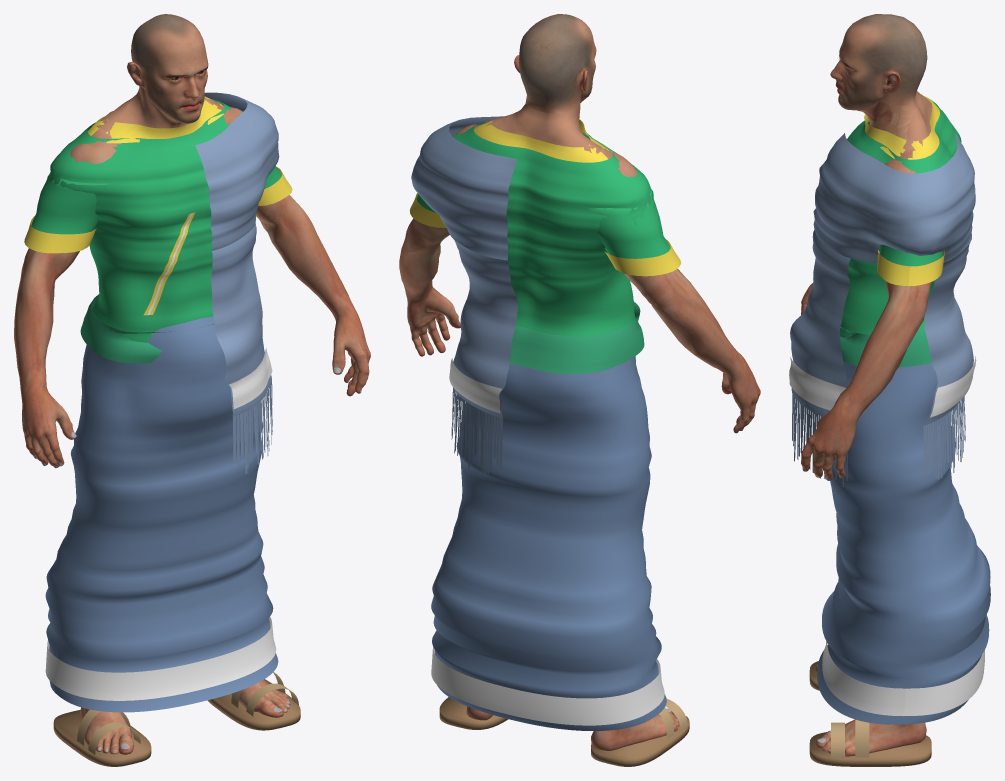
The model's file is male-raya.glb.
The picture shows the model from 3 angles, left to right: view 1: azimuth 30°, elevation 25°; view 2: azimuth 150°, elevation 25°; view 3: azimuth 270°, elevation 25°; orthographic projection.
Visible parts, largest first — view 1: HM_Skirt, HM_Tee, Object_2, HM_Shawl_Shoulder, HM_Embroidery_Hem, Object_7, HM_Shawl_Front, HM_Sleeve_R, Object_8, HM_Belt, HM_Sandal_Sole_R, HM_Fringe_Front (+5 smaller); view 2: HM_Skirt, HM_Tee, Object_2, HM_Shawl_Shoulder, HM_Shawl_Back, HM_Embroidery_Hem, Object_7, HM_Belt, HM_Sleeve_R, Object_11, HM_Fringe_Back, HM_Collar (+5 smaller); view 3: HM_Skirt, HM_Shawl_Shoulder, Object_2, Object_7, HM_Shawl_Front, HM_Tee, HM_Embroidery_Hem, HM_Shawl_Back, HM_Fringe_Back, HM_Sandal_Sole_L, Object_8, HM_Belt (+10 smaller).
Part boxes in pixels (bbox=[...]): HM_Skirt: bbox=[45, 316, 278, 712]; HM_Tee: bbox=[43, 99, 231, 342]; Object_2: bbox=[14, 100, 370, 467]; HM_Shawl_Shoulder: bbox=[195, 92, 279, 250]; HM_Embroidery_Hem: bbox=[45, 617, 276, 700]; Object_7: bbox=[127, 14, 208, 123]; HM_Shawl_Front: bbox=[211, 223, 271, 416]; HM_Sleeve_R: bbox=[31, 172, 108, 253]; Object_8: bbox=[80, 680, 290, 754]; HM_Belt: bbox=[80, 294, 214, 363]; HM_Sandal_Sole_R: bbox=[53, 710, 151, 766]; HM_Fringe_Front: bbox=[233, 381, 272, 473]; HM_Skirt: bbox=[431, 356, 666, 730]; HM_Tee: bbox=[452, 122, 653, 336]; Object_2: bbox=[399, 122, 760, 433]; HM_Shawl_Shoulder: bbox=[411, 116, 516, 260]; HM_Shawl_Back: bbox=[453, 238, 517, 418]; HM_Embroidery_Hem: bbox=[431, 646, 664, 725]; Object_7: bbox=[514, 14, 596, 113]; HM_Belt: bbox=[510, 302, 644, 374]; HM_Sleeve_R: bbox=[588, 186, 670, 258]; Object_11: bbox=[485, 98, 603, 153]; HM_Fringe_Back: bbox=[451, 387, 502, 474]; HM_Collar: bbox=[474, 119, 612, 162]; HM_Skirt: bbox=[817, 361, 990, 724]; HM_Shawl_Shoulder: bbox=[813, 133, 975, 263]; Object_2: bbox=[801, 149, 932, 479]; Object_7: bbox=[830, 14, 927, 112]; HM_Shawl_Front: bbox=[790, 229, 850, 416]; HM_Tee: bbox=[840, 100, 961, 337]; HM_Embroidery_Hem: bbox=[822, 641, 984, 715]; HM_Shawl_Back: bbox=[923, 243, 973, 425]; HM_Fringe_Back: bbox=[923, 396, 965, 479]; HM_Sandal_Sole_L: bbox=[809, 732, 931, 766]; Object_8: bbox=[815, 666, 926, 756]; HM_Belt: bbox=[840, 327, 931, 367].
Size of the model in its own units: 88.22 by 174 by 45.53.
Materials: 19 (7 with a texture image).
